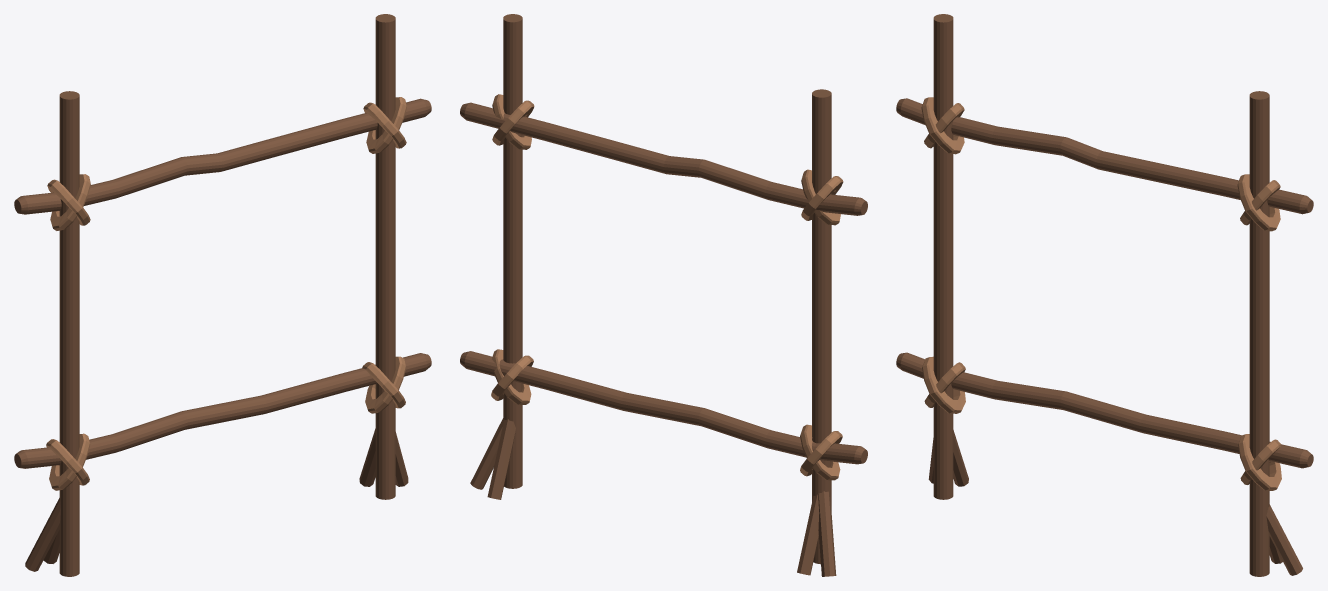
Rendered from SM_rect_rack.fbx.
3 views of the same model, side by side, from view 1: azimuth 30°, elevation 25°; view 2: azimuth 150°, elevation 25°; view 3: azimuth 330°, elevation 25° (orthographic). The views are drawn at different scales.
Parts seen in each view (by area): view 1: rect_rack; view 2: rect_rack; view 3: rect_rack.
Boxes of the visible parts, x1=… form: rect_rack: x1=14, y1=14, x2=431, y2=576; rect_rack: x1=460, y1=14, x2=867, y2=576; rect_rack: x1=896, y1=14, x2=1313, y2=576.
Size of the model in its own units: 199 by 223 by 27.98.
